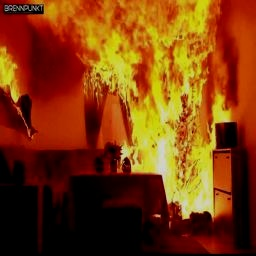fire: (26, 1, 230, 209)
